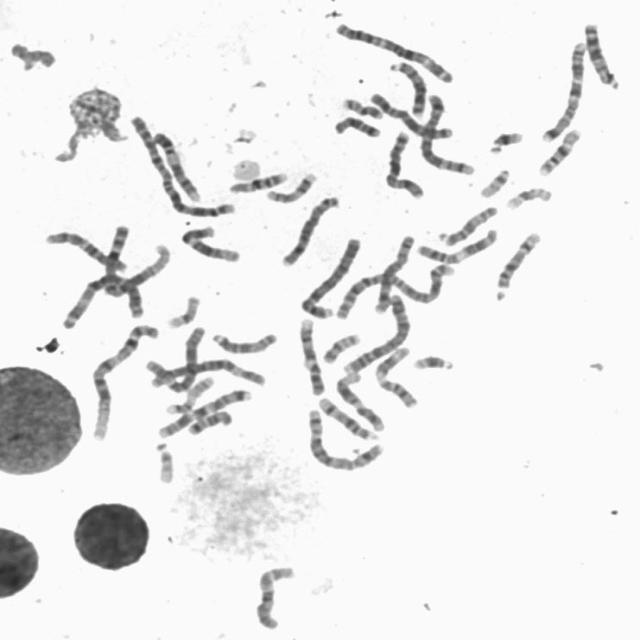A1: (86, 319, 162, 443), (98, 238, 172, 298)
A2: (127, 110, 237, 220), (332, 260, 459, 320)
A3: (330, 17, 459, 84), (58, 268, 148, 330)
B4: (338, 287, 414, 376), (296, 232, 364, 320)
B5: (303, 403, 387, 473), (416, 88, 478, 176)
C10: (41, 226, 131, 273), (251, 562, 298, 632)
C11: (413, 223, 501, 265), (372, 341, 422, 410)
C12: (332, 368, 388, 433), (176, 221, 244, 264)
C6: (141, 352, 269, 390), (150, 321, 208, 392)
C7: (538, 36, 591, 143), (154, 384, 255, 440)
C8: (277, 191, 343, 268), (369, 229, 419, 315)
C9: (148, 126, 204, 204), (295, 312, 328, 397)
D13: (580, 17, 624, 89), (385, 56, 430, 117)
D14: (314, 392, 382, 442), (493, 228, 544, 290)
D15: (436, 201, 500, 247), (207, 327, 281, 355)
E16: (534, 123, 586, 177), (225, 166, 291, 194)
E17: (160, 371, 217, 416), (262, 168, 320, 204)
E18: (5, 37, 61, 69), (330, 110, 383, 139)
F19: (163, 290, 203, 330), (502, 182, 555, 211)
F20: (320, 328, 364, 365), (338, 93, 386, 120)
G21: (485, 125, 527, 155), (409, 350, 457, 372)
G22: (476, 163, 513, 199), (151, 438, 177, 485)
X: (366, 87, 455, 141), (381, 126, 427, 200)
